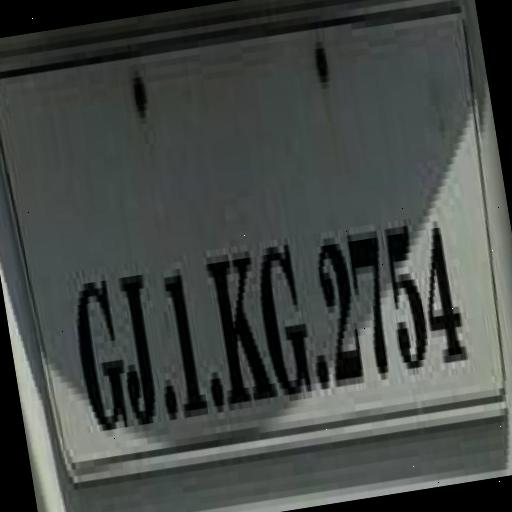number plate: (0, 0, 510, 487)
